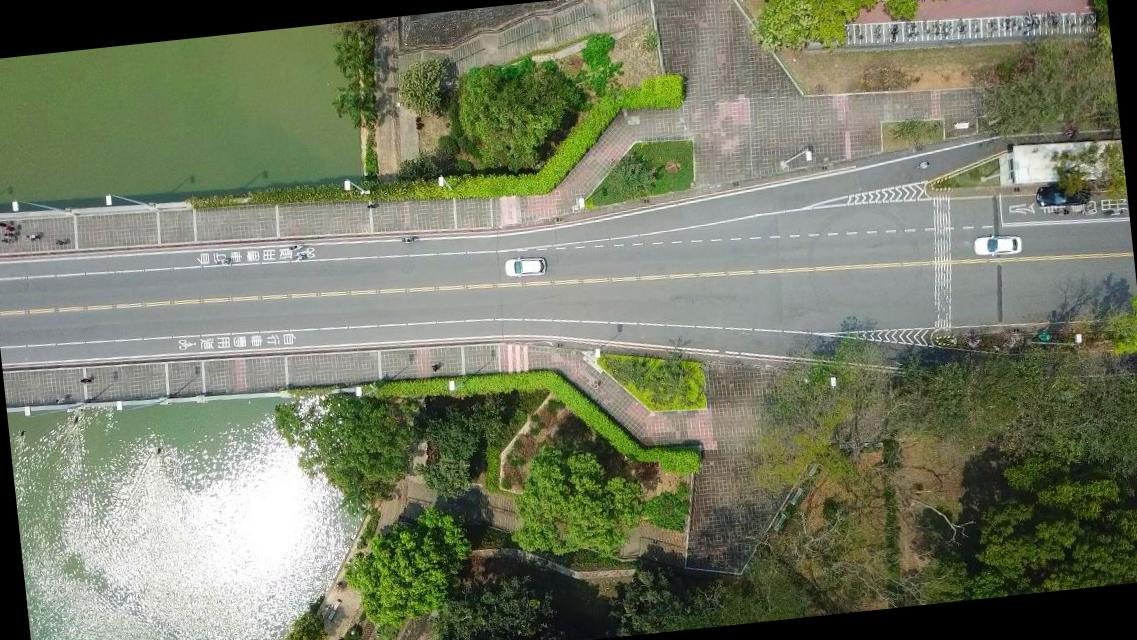vehicle: (1034, 180, 1092, 210), (974, 232, 1023, 258), (504, 254, 548, 279)
